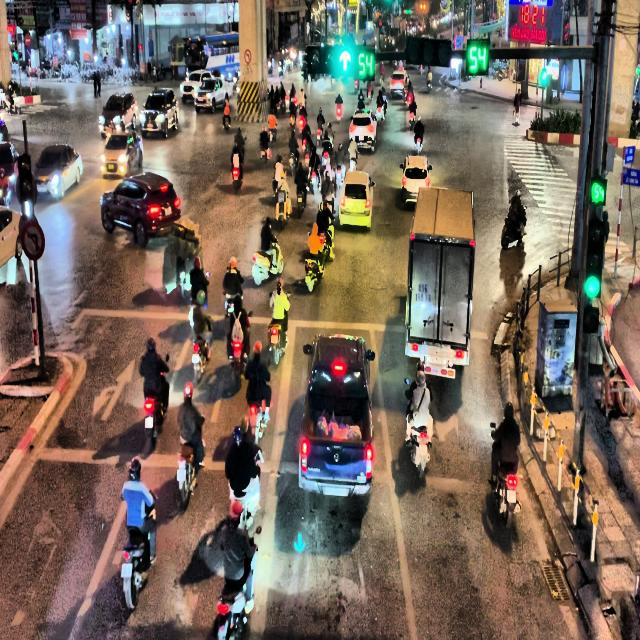lisence_plate: (415, 282, 432, 312), (324, 485, 346, 499), (429, 357, 446, 367), (349, 201, 360, 216), (164, 203, 171, 217), (358, 134, 364, 144)
